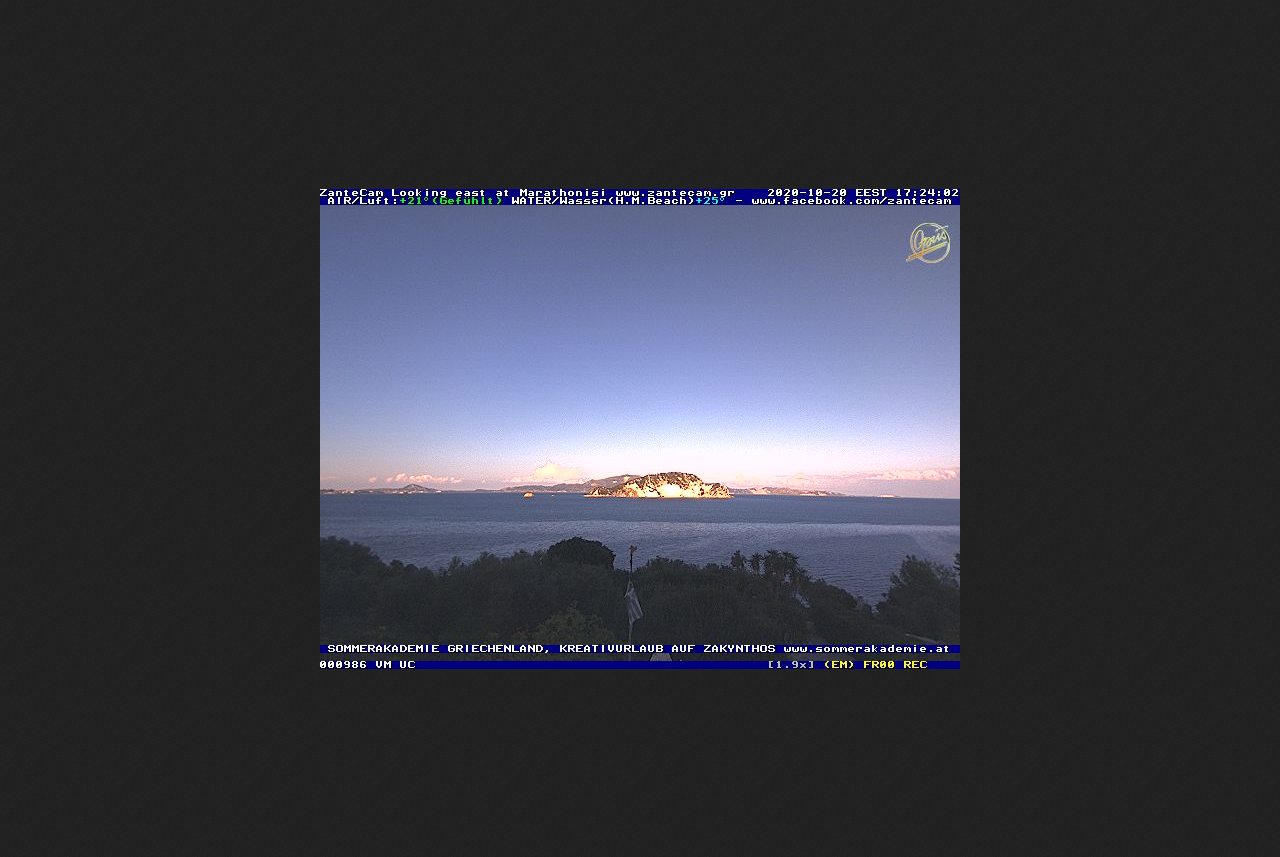no: (619, 566, 644, 627)
